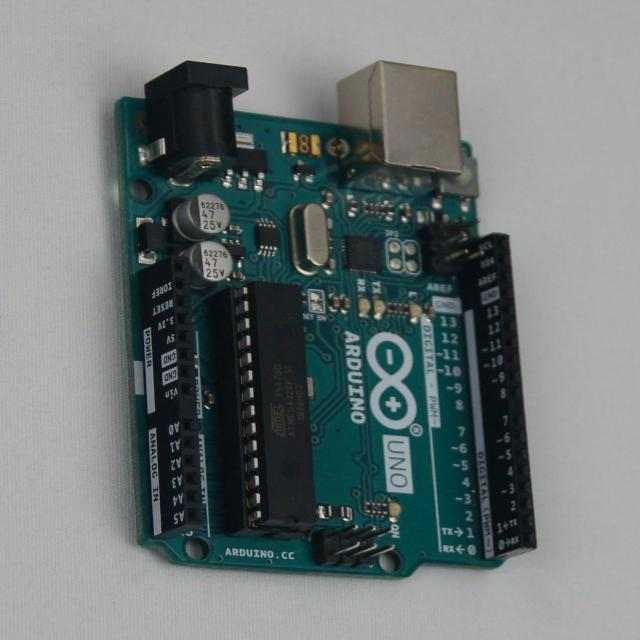Arduino Uno -Green-: (117, 64, 535, 577)
